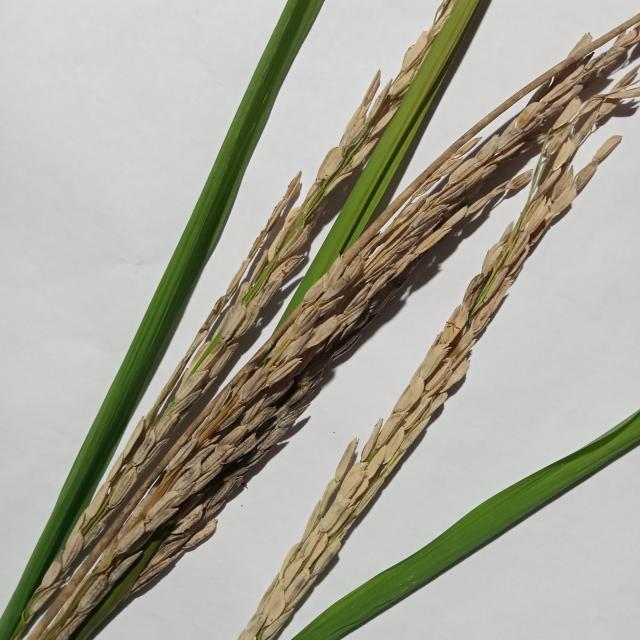Neck_Blast: (4, 15, 634, 628), (244, 108, 590, 636)
